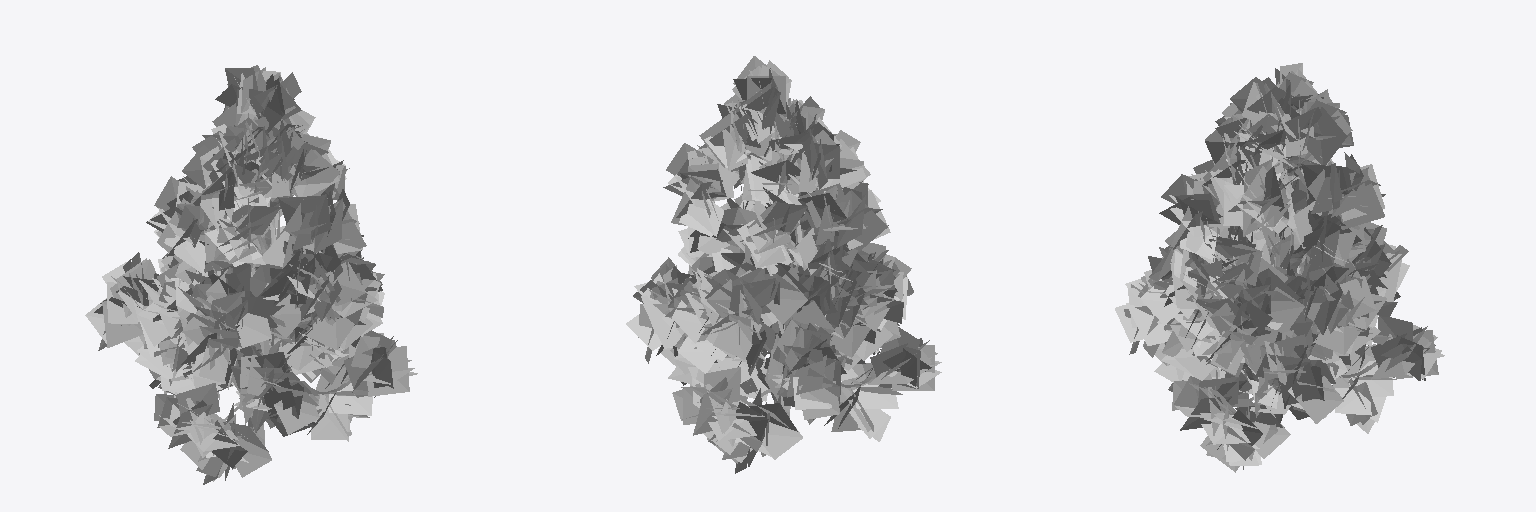
File: LowPolyTrees2.obj
3 views of the same model, side by side, from view 1: azimuth 30°, elevation 25°; view 2: azimuth 150°, elevation 25°; view 3: azimuth 270°, elevation 25° (orthographic).
Visible parts, largest first — view 1: Leaves.003, Bark.003; view 2: Leaves.003, Bark.003; view 3: Leaves.003, Bark.003.
Boxes of the visible parts, x1,y1,x2,y2 form: Leaves.003: [85, 65, 417, 484]; Bark.003: [211, 183, 350, 444]; Leaves.003: [626, 56, 941, 473]; Bark.003: [713, 157, 875, 417]; Leaves.003: [1115, 63, 1444, 472]; Bark.003: [1229, 144, 1377, 415].
Size of the model in its own units: 2.39 by 3.31 by 2.64.